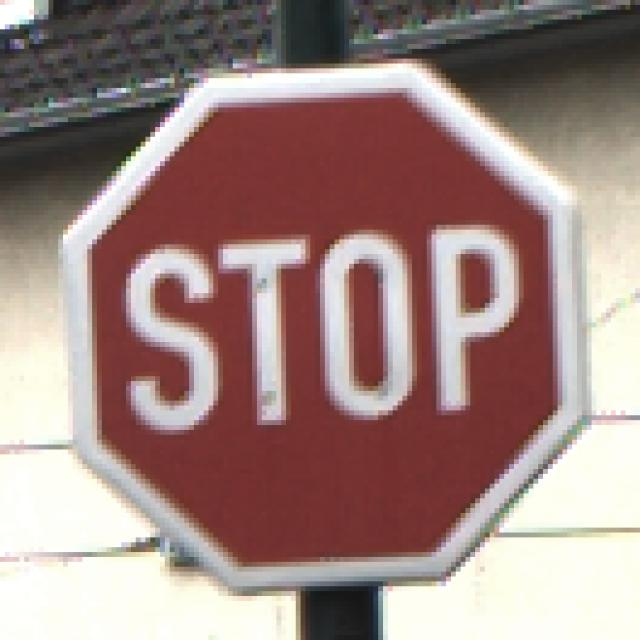STOP: (59, 55, 588, 582)
